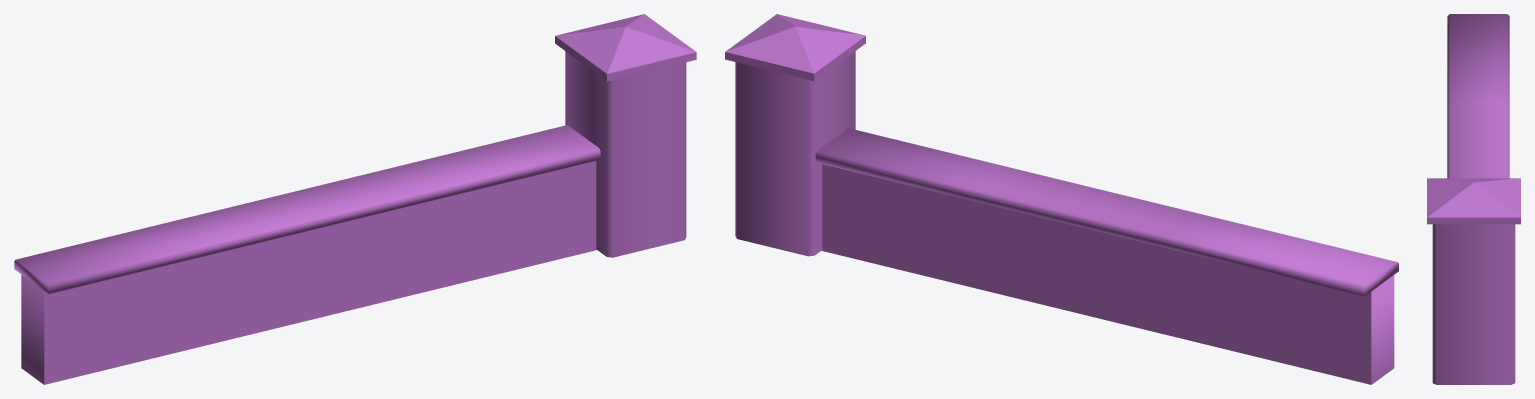
The model's file is Struct_Fence1_Mid_A.fbx.
3 renders of one model, left to right at view 1: azimuth 30°, elevation 25°; view 2: azimuth 150°, elevation 25°; view 3: azimuth 270°, elevation 25°, orthographic. The views are drawn at different scales.
Parts seen in each view (by area): view 1: Struct_Fence1_Mid_A; view 2: Struct_Fence1_Mid_A; view 3: Struct_Fence1_Mid_A.
Part boxes in pixels (bbox=[...]): Struct_Fence1_Mid_A: bbox=[14, 14, 696, 384]; Struct_Fence1_Mid_A: bbox=[725, 14, 1398, 384]; Struct_Fence1_Mid_A: bbox=[1427, 14, 1520, 384].
Bounding box in the file's own units: 6.39 × 1.98 × 0.9063.
